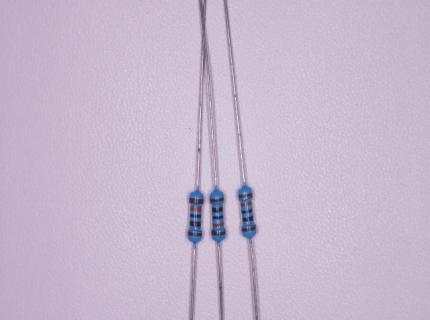Black band: (242, 215, 253, 222), (190, 221, 201, 227), (212, 207, 223, 213), (242, 209, 253, 214), (190, 214, 201, 218), (213, 215, 223, 219)
Brown band: (242, 225, 255, 232), (190, 198, 203, 204), (239, 193, 252, 198), (212, 230, 225, 235), (188, 232, 202, 236), (210, 198, 223, 202)
Orange band: (241, 201, 252, 207), (190, 206, 202, 211), (213, 223, 224, 226)
